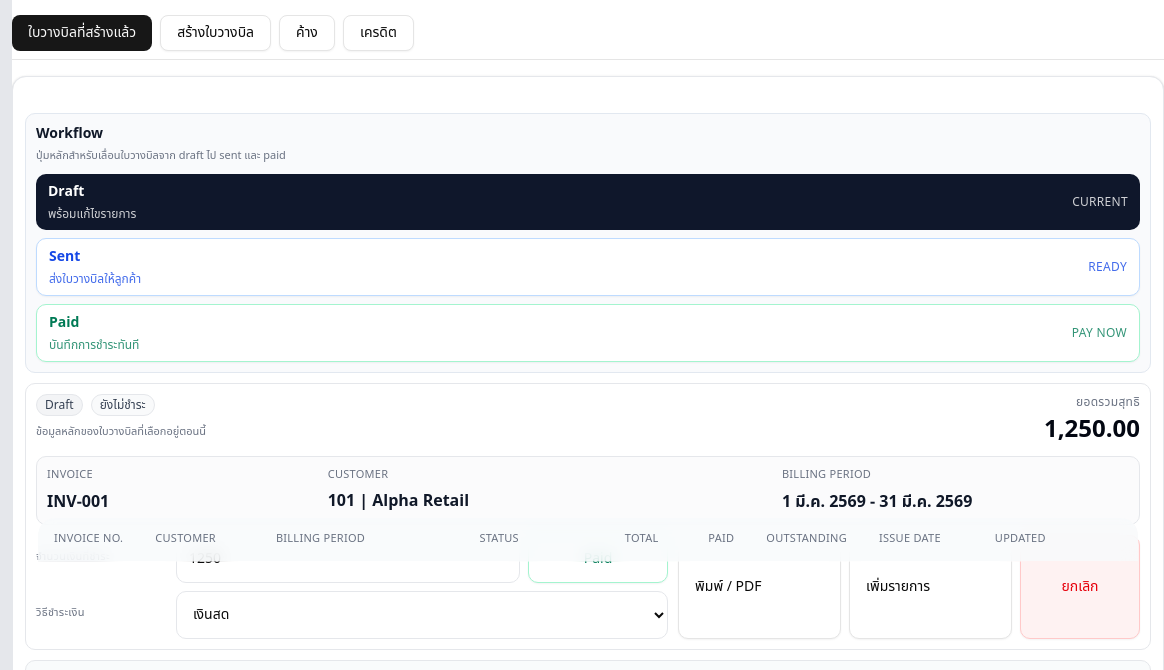
Test: invoice workspace page › confirms before issuing when transactions already exist in another active invoice
Step 1. Click the button "Sent ส่งใบวางบิลให้ลูกค้า Ready" → click(65, 256), box [36, 238, 1140, 296]
(page scrolled)
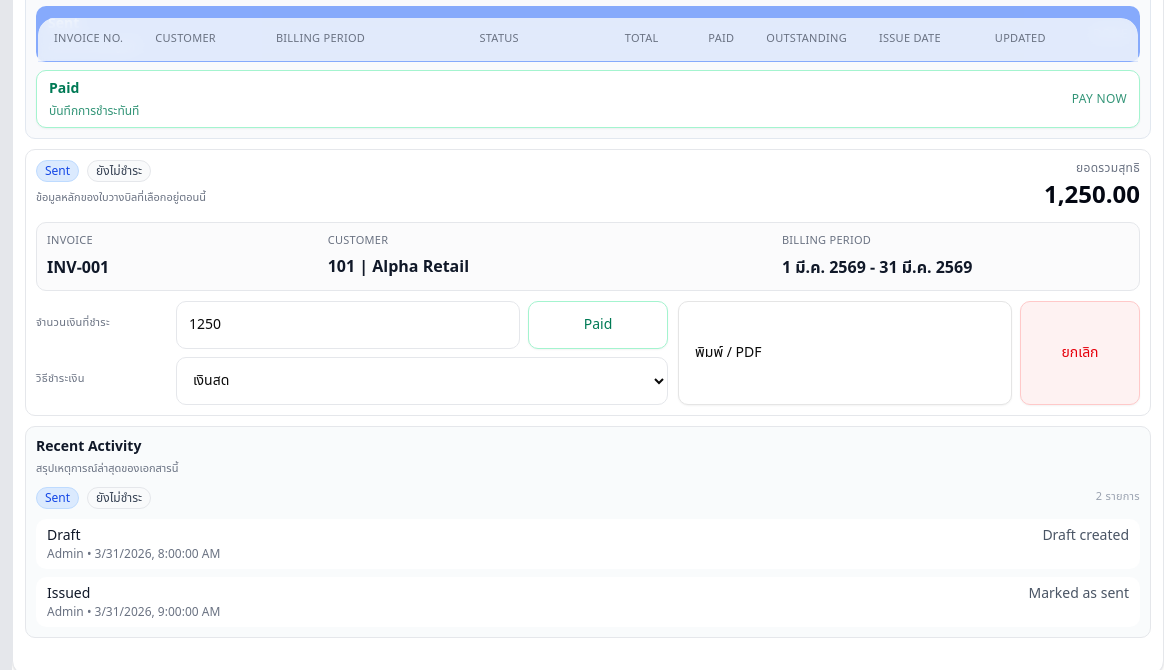
Now the text "Marked as sent" is shown, box [1028, 584, 1129, 604]
